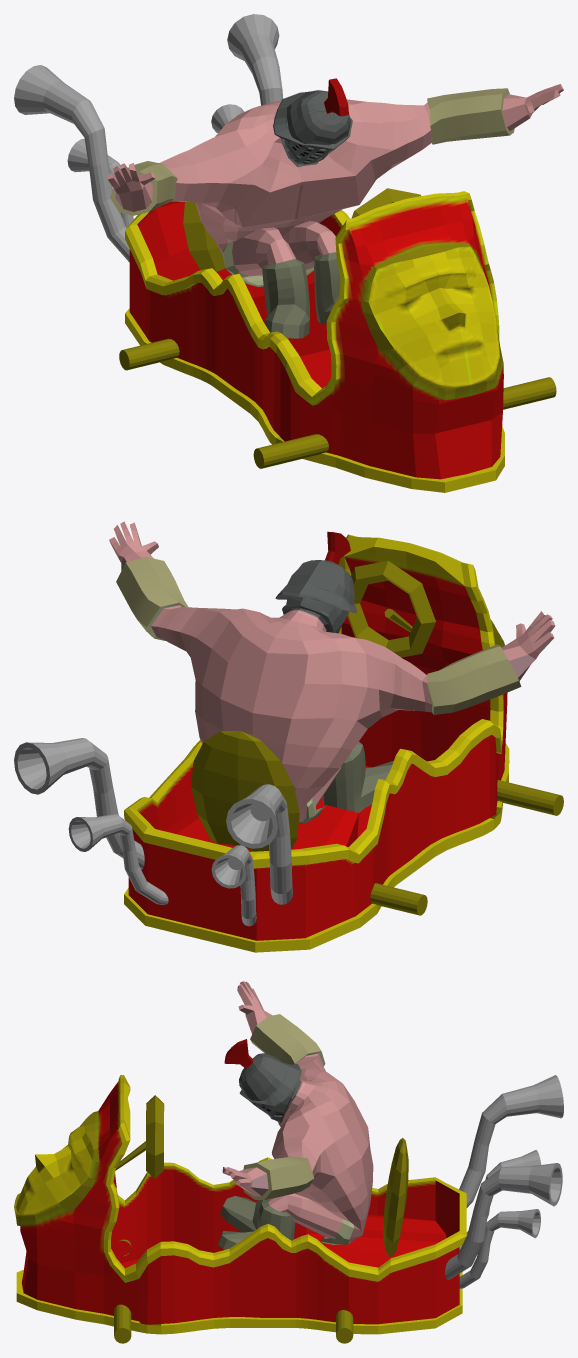
File: GladiHabilidad_000525.obj
3 renders of one model, top to bottom at view 1: azimuth 30°, elevation 25°; view 2: azimuth 150°, elevation 25°; view 3: azimuth 270°, elevation 25°, orthographic. The views are drawn at different scales.
Parts seen in each view (by area): view 1: GladiChasis_GladiChasisH, Gadiador_Gladiador_H.001, GladiTubos_GladiTubosH, GladiVolante_GladiVolanteH; view 2: GladiChasis_GladiChasisH, Gadiador_Gladiador_H.001, GladiTubos_GladiTubosH, GladiVolante_GladiVolanteH; view 3: GladiChasis_GladiChasisH, Gadiador_Gladiador_H.001, GladiTubos_GladiTubosH, GladiVolante_GladiVolanteH.
Part boxes in pixels (x1,y1,x2,y2): GladiChasis_GladiChasisH: (125, 191, 504, 492); Gadiador_Gladiador_H.001: (107, 78, 563, 338); GladiTubos_GladiTubosH: (14, 14, 283, 262); GladiVolante_GladiVolanteH: (119, 188, 556, 468); GladiChasis_GladiChasisH: (124, 534, 509, 952); Gadiador_Gladiador_H.001: (109, 521, 555, 823); GladiTubos_GladiTubosH: (14, 738, 292, 926); GladiVolante_GladiVolanteH: (191, 560, 563, 915); GladiChasis_GladiChasisH: (14, 1075, 466, 1334); Gadiador_Gladiador_H.001: (218, 981, 373, 1249); GladiTubos_GladiTubosH: (445, 1075, 563, 1288); GladiVolante_GladiVolanteH: (114, 1095, 408, 1343).
Bounding box in the file's own units: 8.32 × 5.45 × 10.78.
